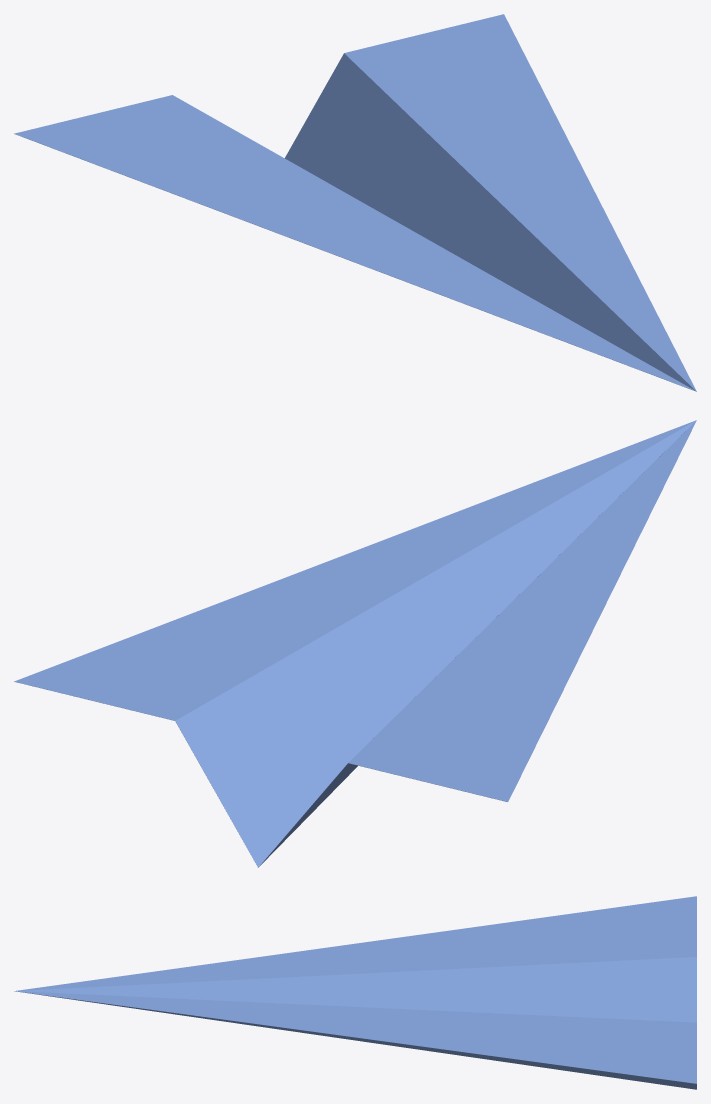
The model's file is airplane.glb.
3 views of the same model, one above another, from view 1: azimuth 30°, elevation 25°; view 2: azimuth 150°, elevation 25°; view 3: azimuth 270°, elevation 25° (orthographic). The views are drawn at different scales.
Visible parts, largest first — view 1: Plane; view 2: Plane; view 3: Plane.
Part boxes in pixels (x1,y1,x2,y2): Plane: (14, 14, 696, 391); Plane: (14, 420, 696, 867); Plane: (14, 896, 696, 1089).
Bounding box in the file's own units: 24.79 × 6.08 × 38.12.
